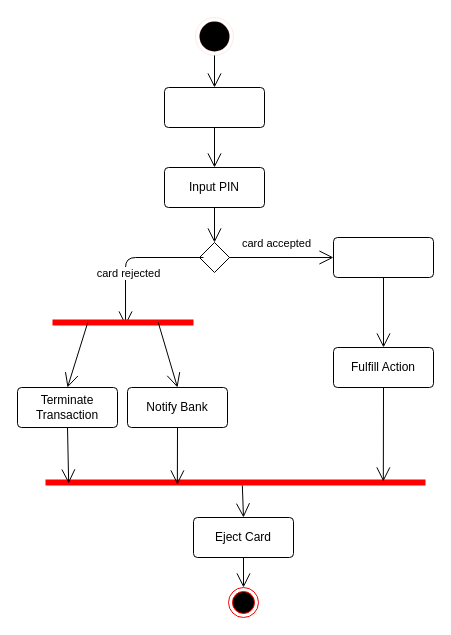
Image size: 451x635. Some labels were removed from this diagram. Each missing label, with the centre of its shape:
Insert Card: [214,107]
Select Action: [383,257]
